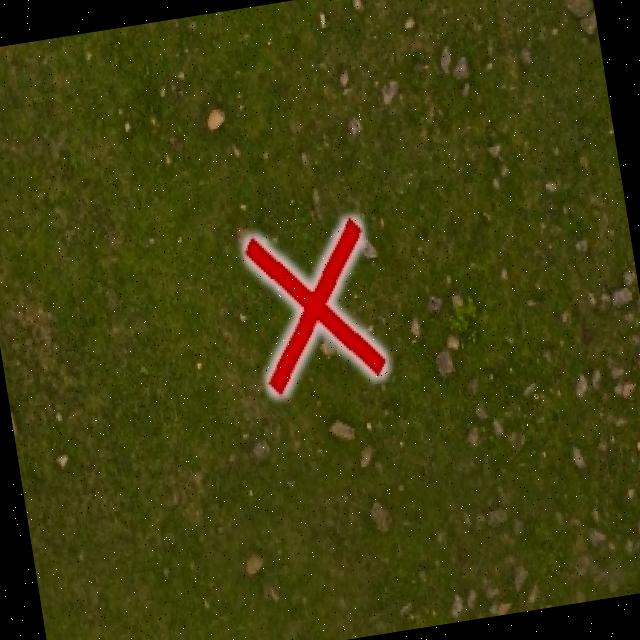x_marker: (243, 218, 387, 394)
